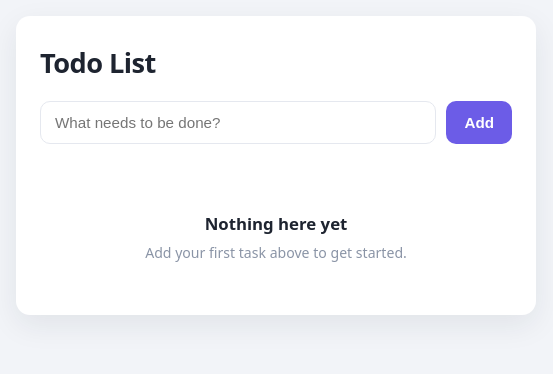
Todo app › filters todos by Active and Completed
This screenshot has width=553, height=374.
In the field named "new todo text": (238, 122) x1=40 y1=101 x2=436 y2=144, type "Active task"
Click the button "Add": (479, 122) x1=446 y1=101 x2=512 y2=144
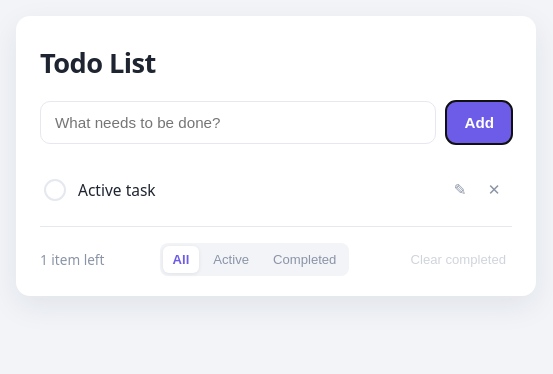
In the field named "new todo text": (238, 122) x1=40 y1=101 x2=436 y2=144, type "Completed task"
Click the button "Add": (479, 122) x1=446 y1=101 x2=512 y2=144
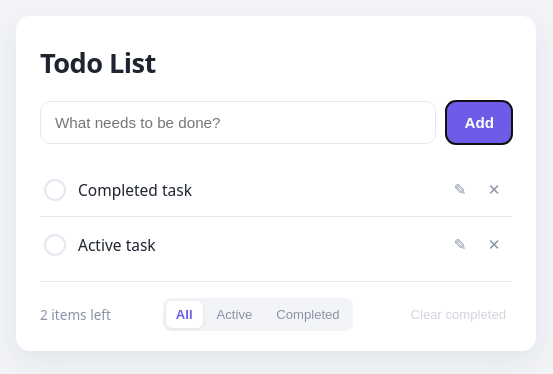
Click the checkbox named "mark \"completed task\" as completed": (55, 190) x1=44 y1=179 x2=66 y2=201
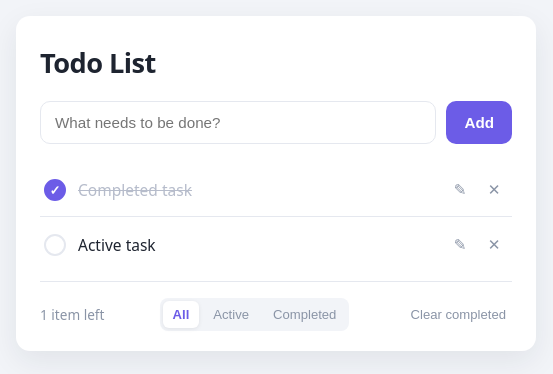
Click the button "Active": (231, 314) x1=203 y1=301 x2=259 y2=328
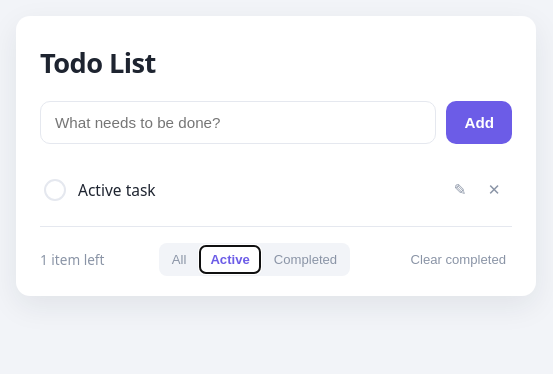
Result: the text "Active task" is shown at x1=78 y1=179 x2=156 y2=201
Result: the text "Completed task" is gone
Click the button "Completed": (306, 260) x1=264 y1=246 x2=347 y2=273
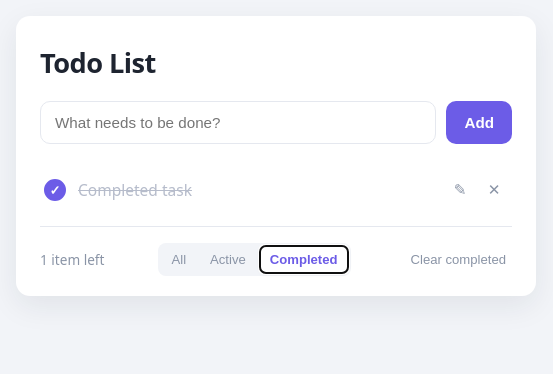
Result: the text "Completed task" is shown at x1=78 y1=179 x2=192 y2=201
Result: the text "Active task" is gone
Click the button "All": (179, 260) x1=162 y1=246 x2=196 y2=273
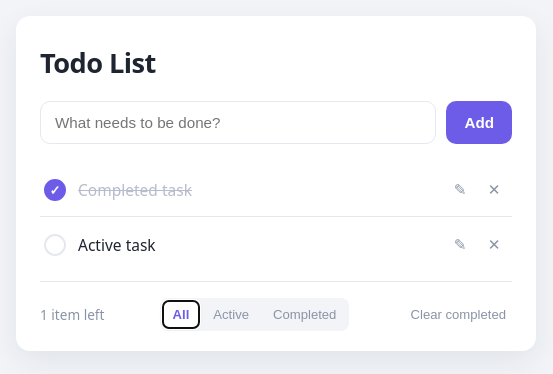
Result: the text "Completed task" is shown at x1=78 y1=179 x2=192 y2=201
Result: the text "Active task" is shown at x1=78 y1=234 x2=156 y2=256
